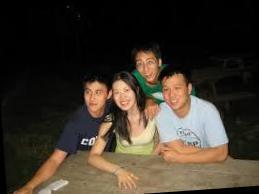Drunk: (162, 77, 189, 109), (134, 50, 161, 81), (82, 82, 107, 112), (112, 81, 136, 111)
